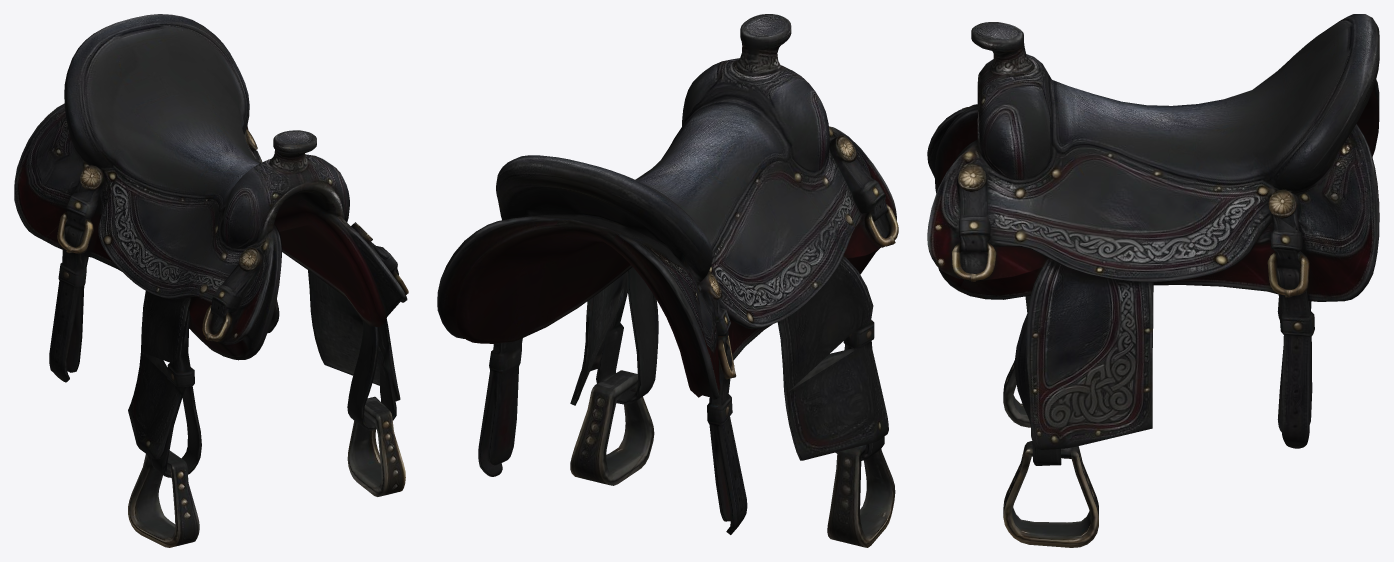
Rendered from battle.glb.
The picture shows the model from 3 angles, left to right: view 1: azimuth 30°, elevation 25°; view 2: azimuth 150°, elevation 25°; view 3: azimuth 270°, elevation 25°; orthographic projection. The views are drawn at different scales.
Visible parts, largest first — view 1: tripo_node_373b2341-bdcd-49e4-a1e3-7074d2aa7654; view 2: tripo_node_373b2341-bdcd-49e4-a1e3-7074d2aa7654; view 3: tripo_node_373b2341-bdcd-49e4-a1e3-7074d2aa7654.
Boxes of the visible parts, left/top/right/bottom form: tripo_node_373b2341-bdcd-49e4-a1e3-7074d2aa7654: left=14, top=14, right=408, bottom=547; tripo_node_373b2341-bdcd-49e4-a1e3-7074d2aa7654: left=437, top=14, right=898, bottom=547; tripo_node_373b2341-bdcd-49e4-a1e3-7074d2aa7654: left=927, top=14, right=1379, bottom=547.
Size of the model in its own units: 0.569 by 0.8496 by 0.774.
Materials: 1 (1 with a texture image).
